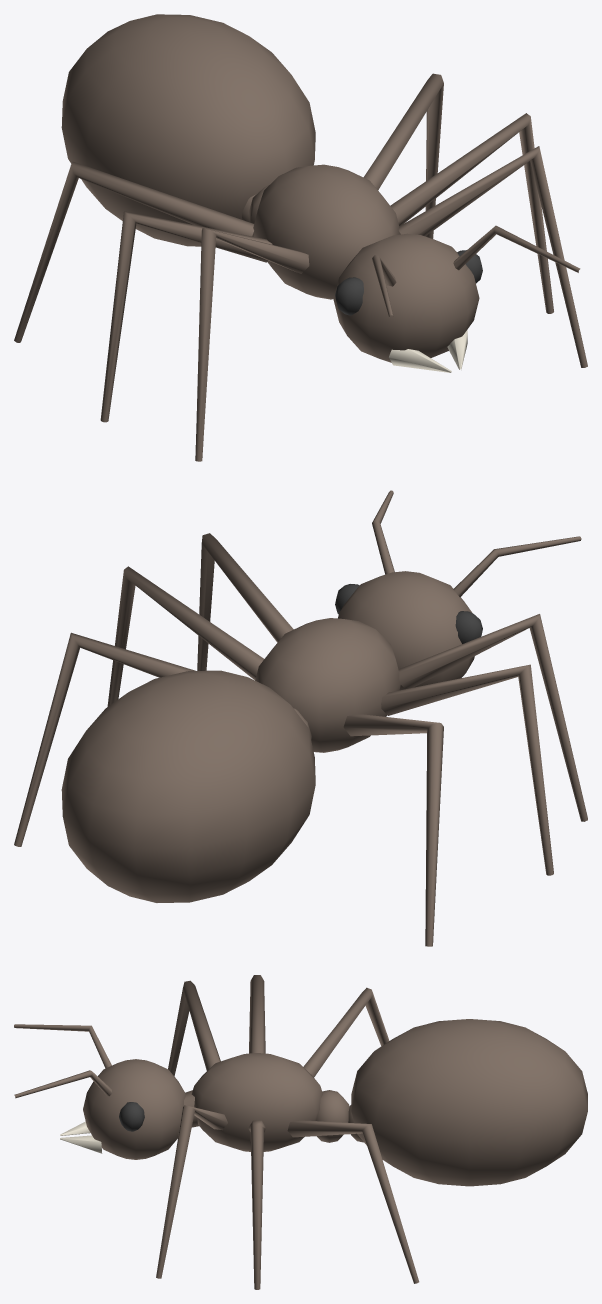
Rendered from ant.glb.
The picture shows the model from 3 angles, top to bottom: view 1: azimuth 30°, elevation 25°; view 2: azimuth 150°, elevation 25°; view 3: azimuth 270°, elevation 25°; orthographic projection. The views are drawn at different scales.
Size of the model in its own units: 1.05 by 0.5225 by 1.51.
